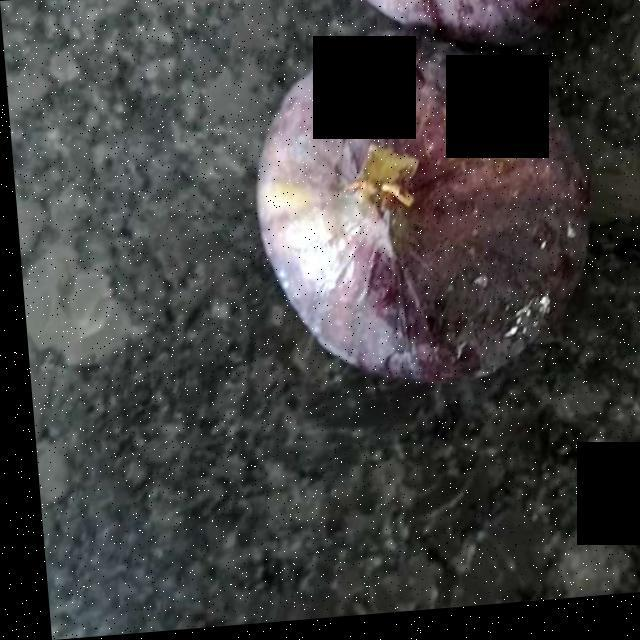figs: (258, 0, 595, 371)
